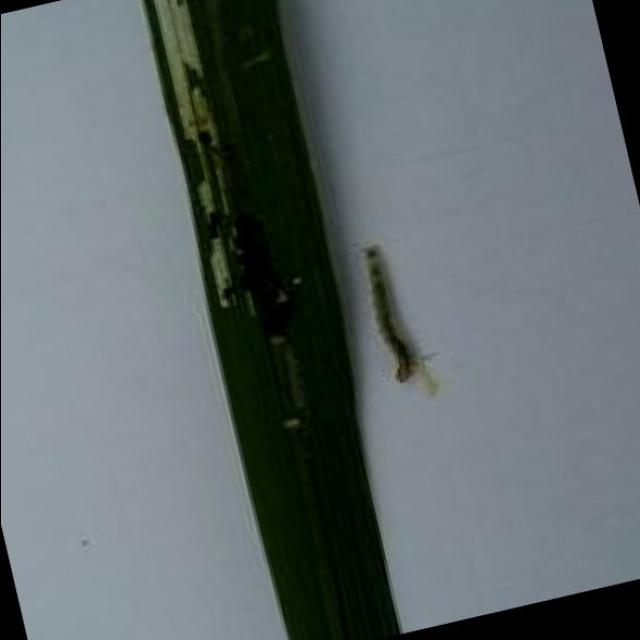leaf folder: (361, 247, 435, 396)
